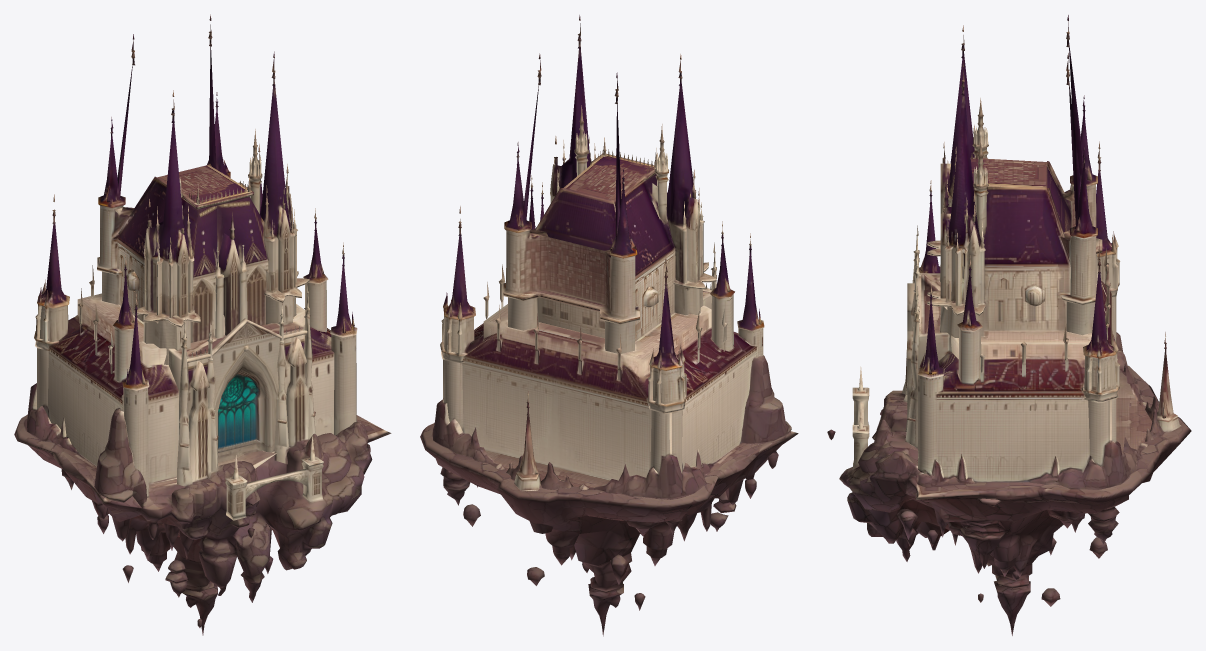
File: castle.glb
The picture shows the model from 3 angles, left to right: view 1: azimuth 30°, elevation 25°; view 2: azimuth 150°, elevation 25°; view 3: azimuth 270°, elevation 25°; orthographic projection.
Parts seen in each view (by area): view 1: tripo_node_41f90baa; view 2: tripo_node_41f90baa; view 3: tripo_node_41f90baa.
Part boxes in pixels (left/top/right/bottom): tripo_node_41f90baa: left=14, top=14, right=391, bottom=635; tripo_node_41f90baa: left=420, top=15, right=798, bottom=636; tripo_node_41f90baa: left=827, top=15, right=1191, bottom=635.
Size of the model in its own units: 0.5083 by 0.9995 by 0.5483.
Materials: 1 (1 with a texture image).
